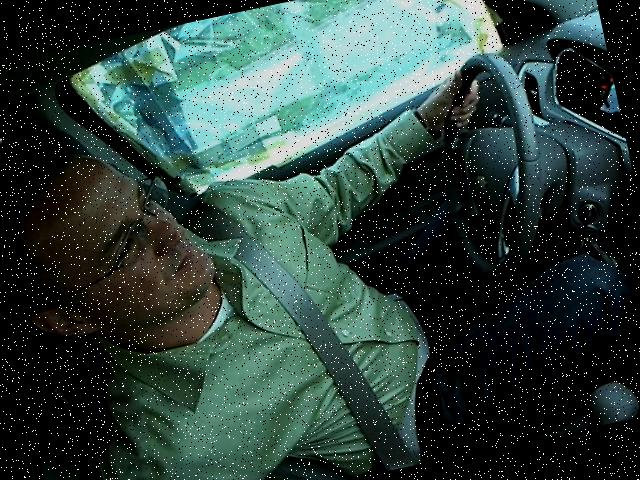c5 - Reaching Behind: (0, 33, 597, 479)
